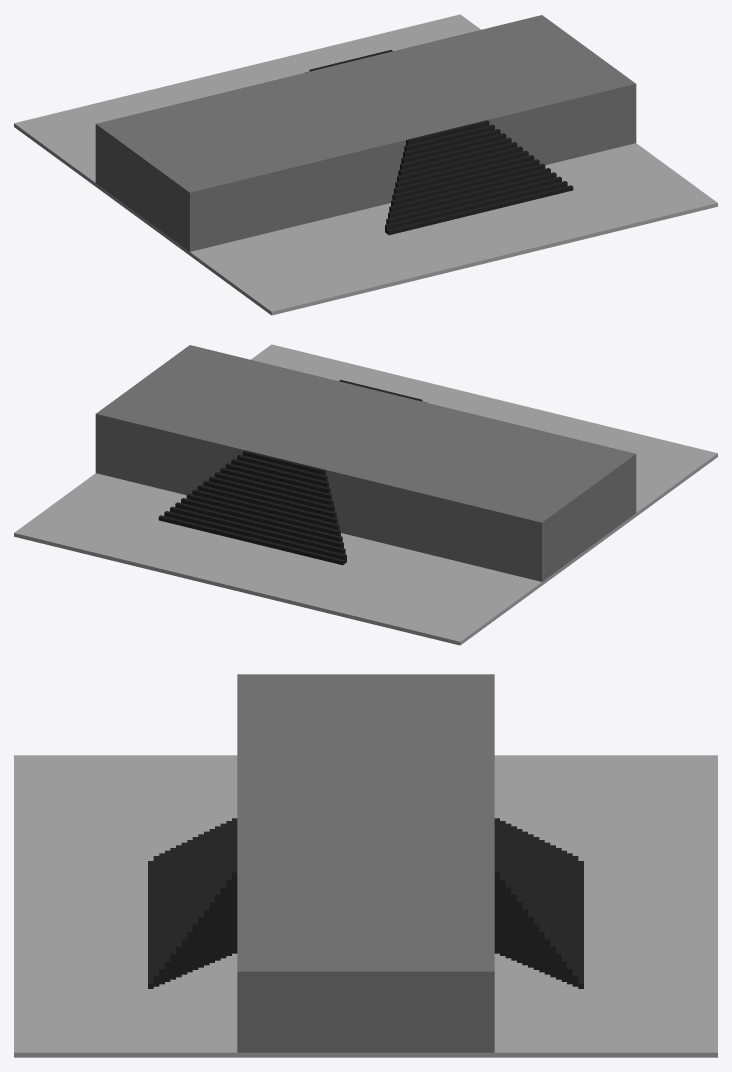
File: Erivale-4.obj
3 views of the same model, one above another, from view 1: azimuth 30°, elevation 25°; view 2: azimuth 150°, elevation 25°; view 3: azimuth 270°, elevation 25° (orthographic). The views are drawn at different scales.
Bounding box in the file's own units: 12.6 × 1.7 × 12.6.
1 material, 1 textured.
